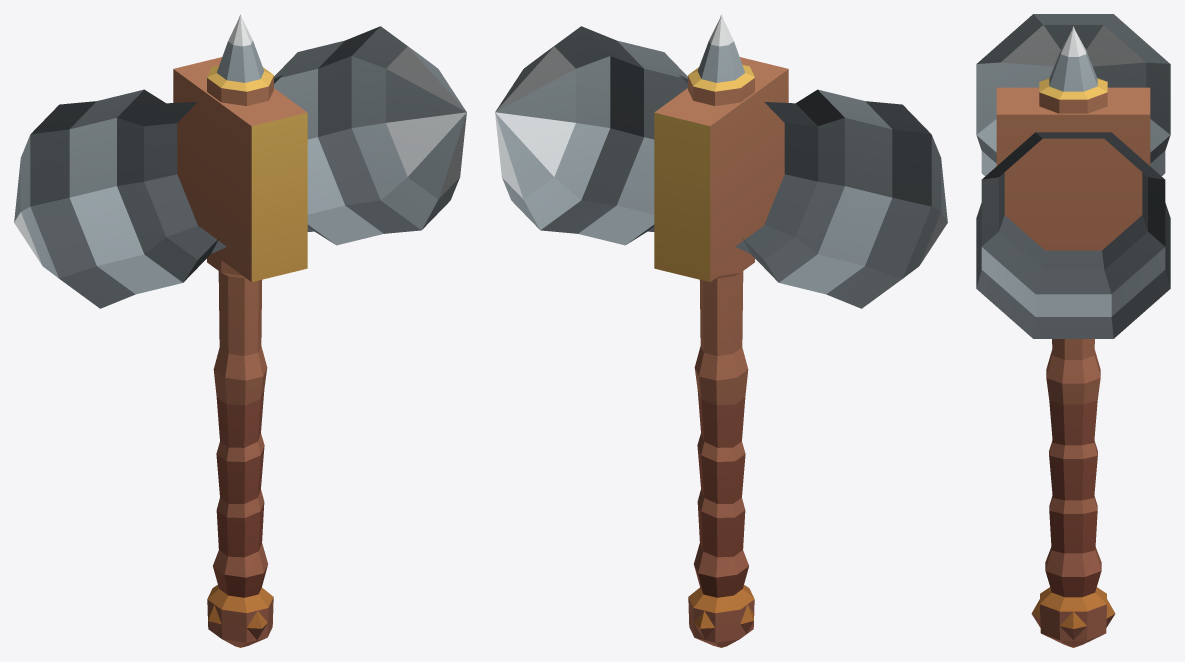
The model's file is warhammer_spiked.glb.
3 renders of one model, left to right at view 1: azimuth 30°, elevation 25°; view 2: azimuth 150°, elevation 25°; view 3: azimuth 270°, elevation 25°, orthographic.
Visible parts, largest first — view 1: model; view 2: model; view 3: model.
Boxes of the visible parts, <box> form: model: <box>14,14,466,647</box>; model: <box>495,14,947,647</box>; model: <box>976,14,1170,647</box>.
Bounding box in the file's own units: 1.48 × 1.98 × 0.56.
1 material, 1 textured.
